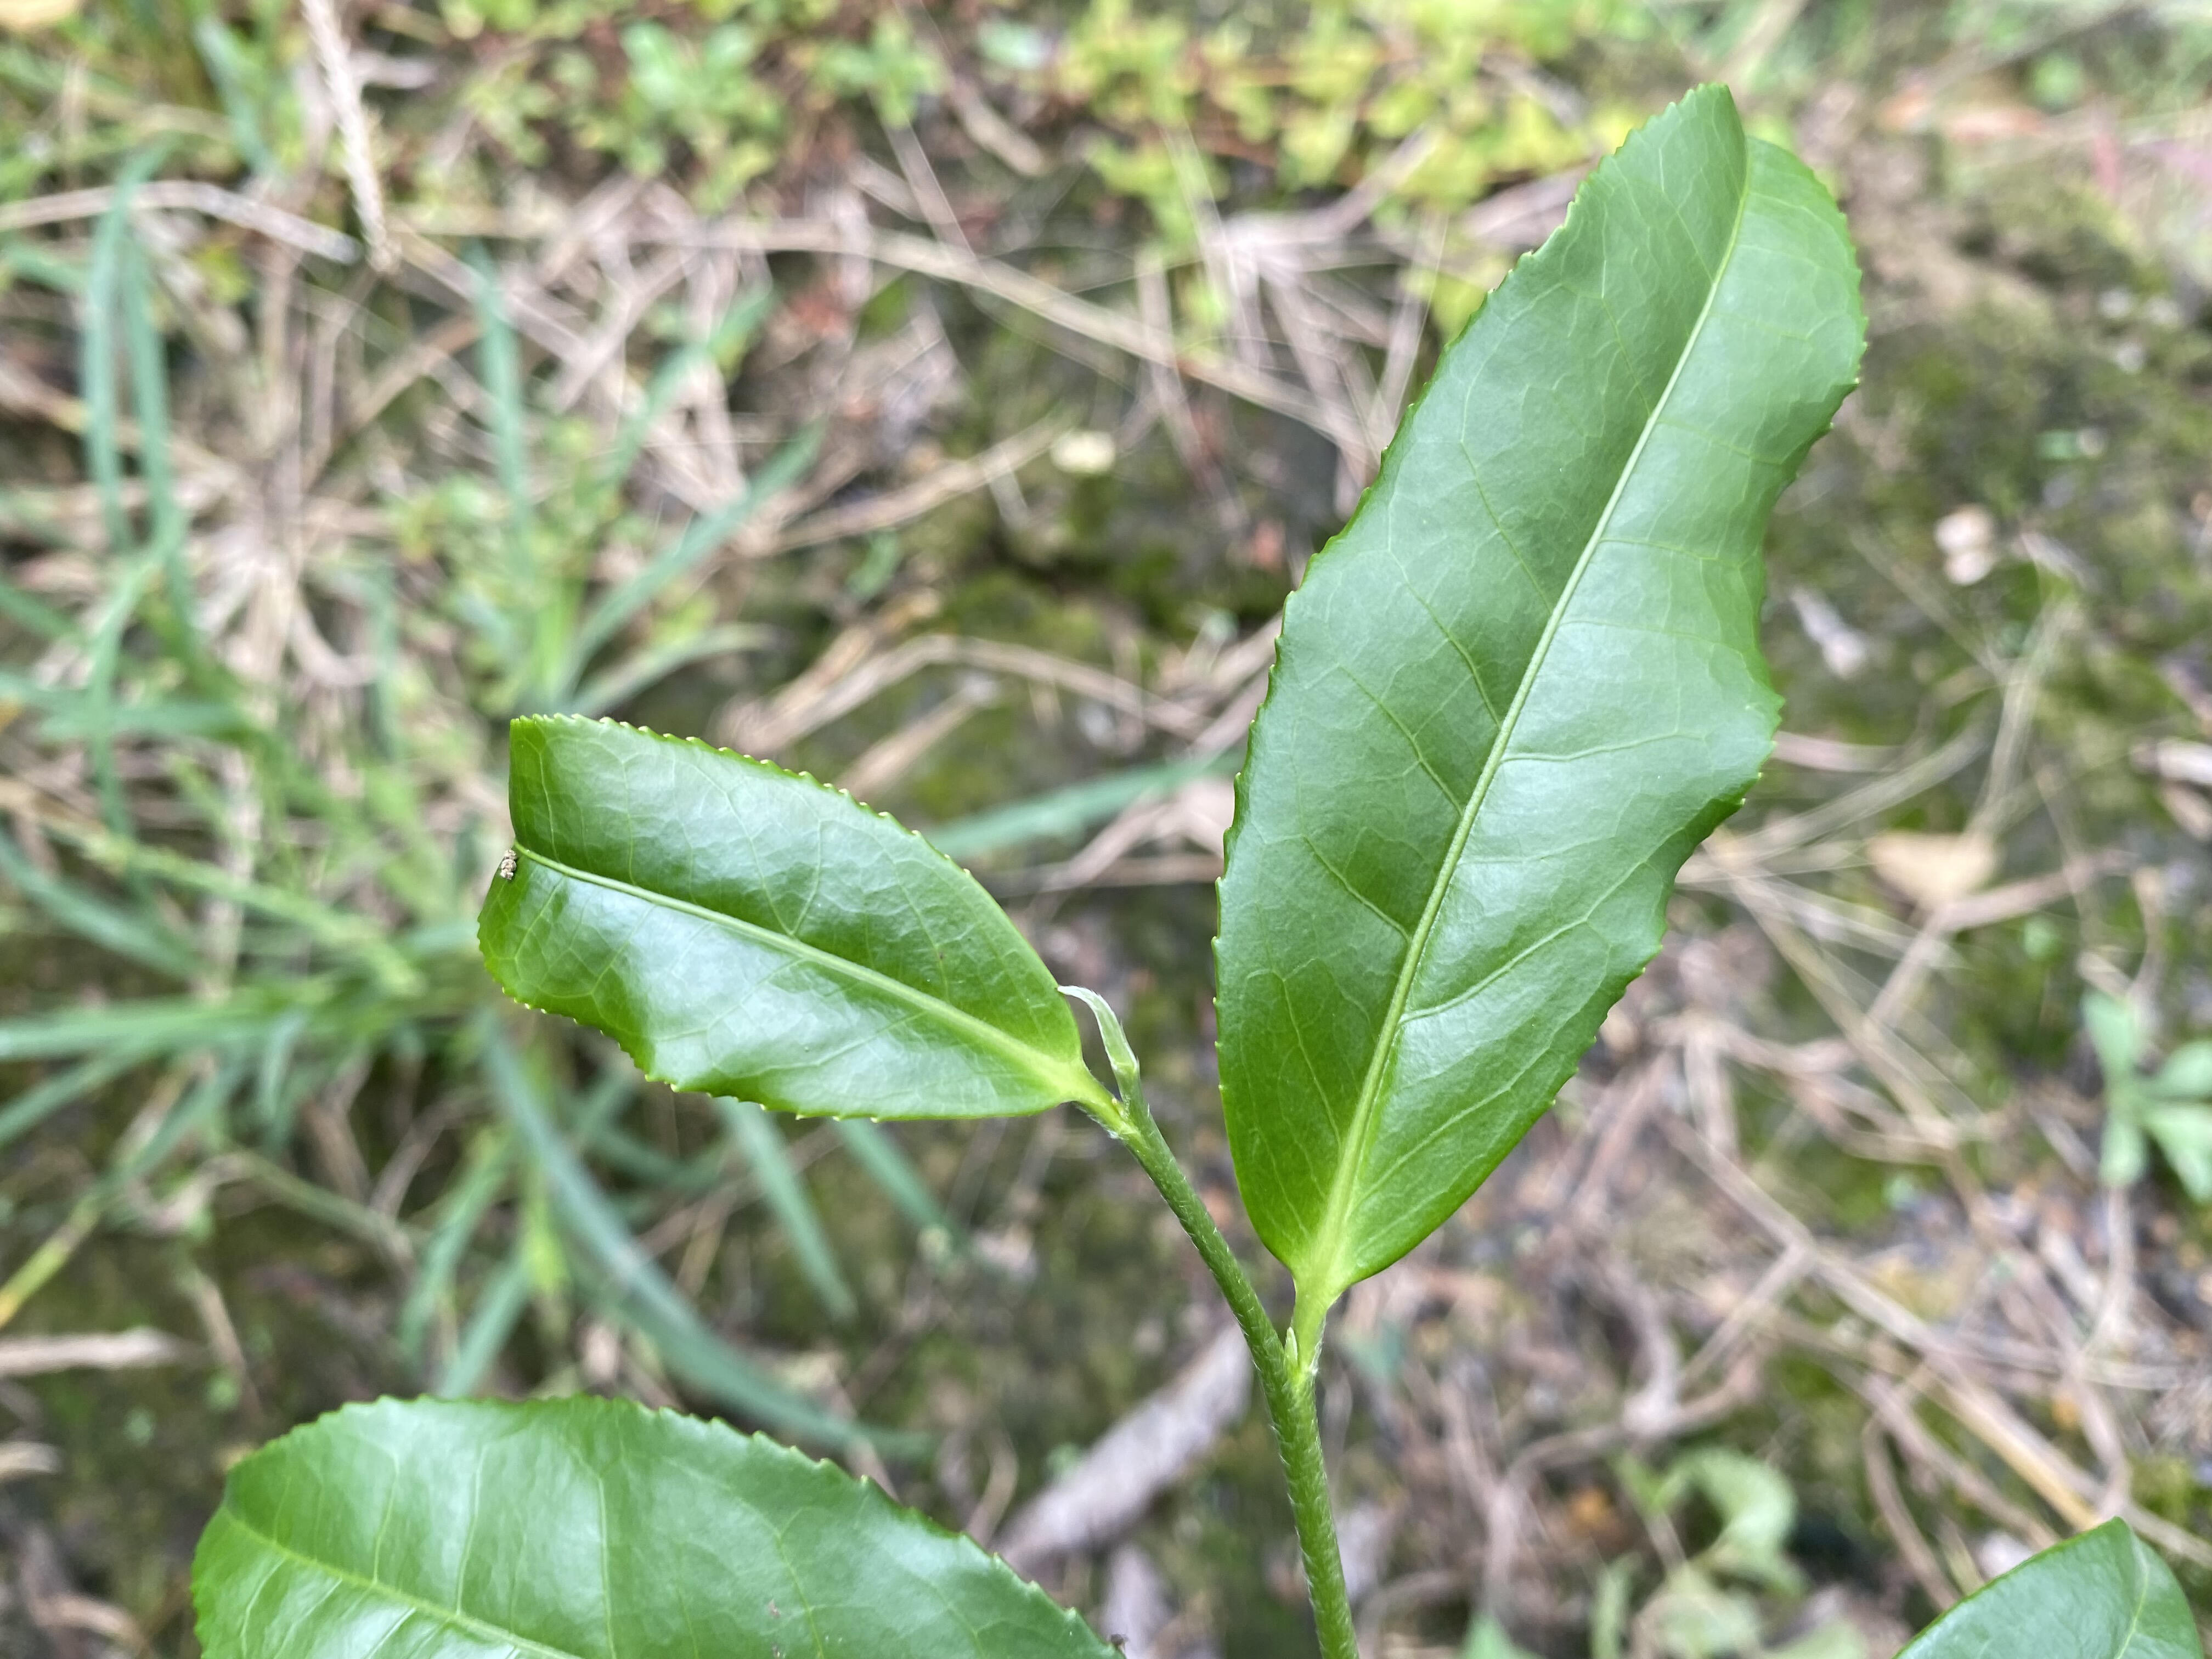healthy: (1205, 82, 1872, 1304), (185, 1391, 1130, 1659), (475, 711, 1083, 1124)
